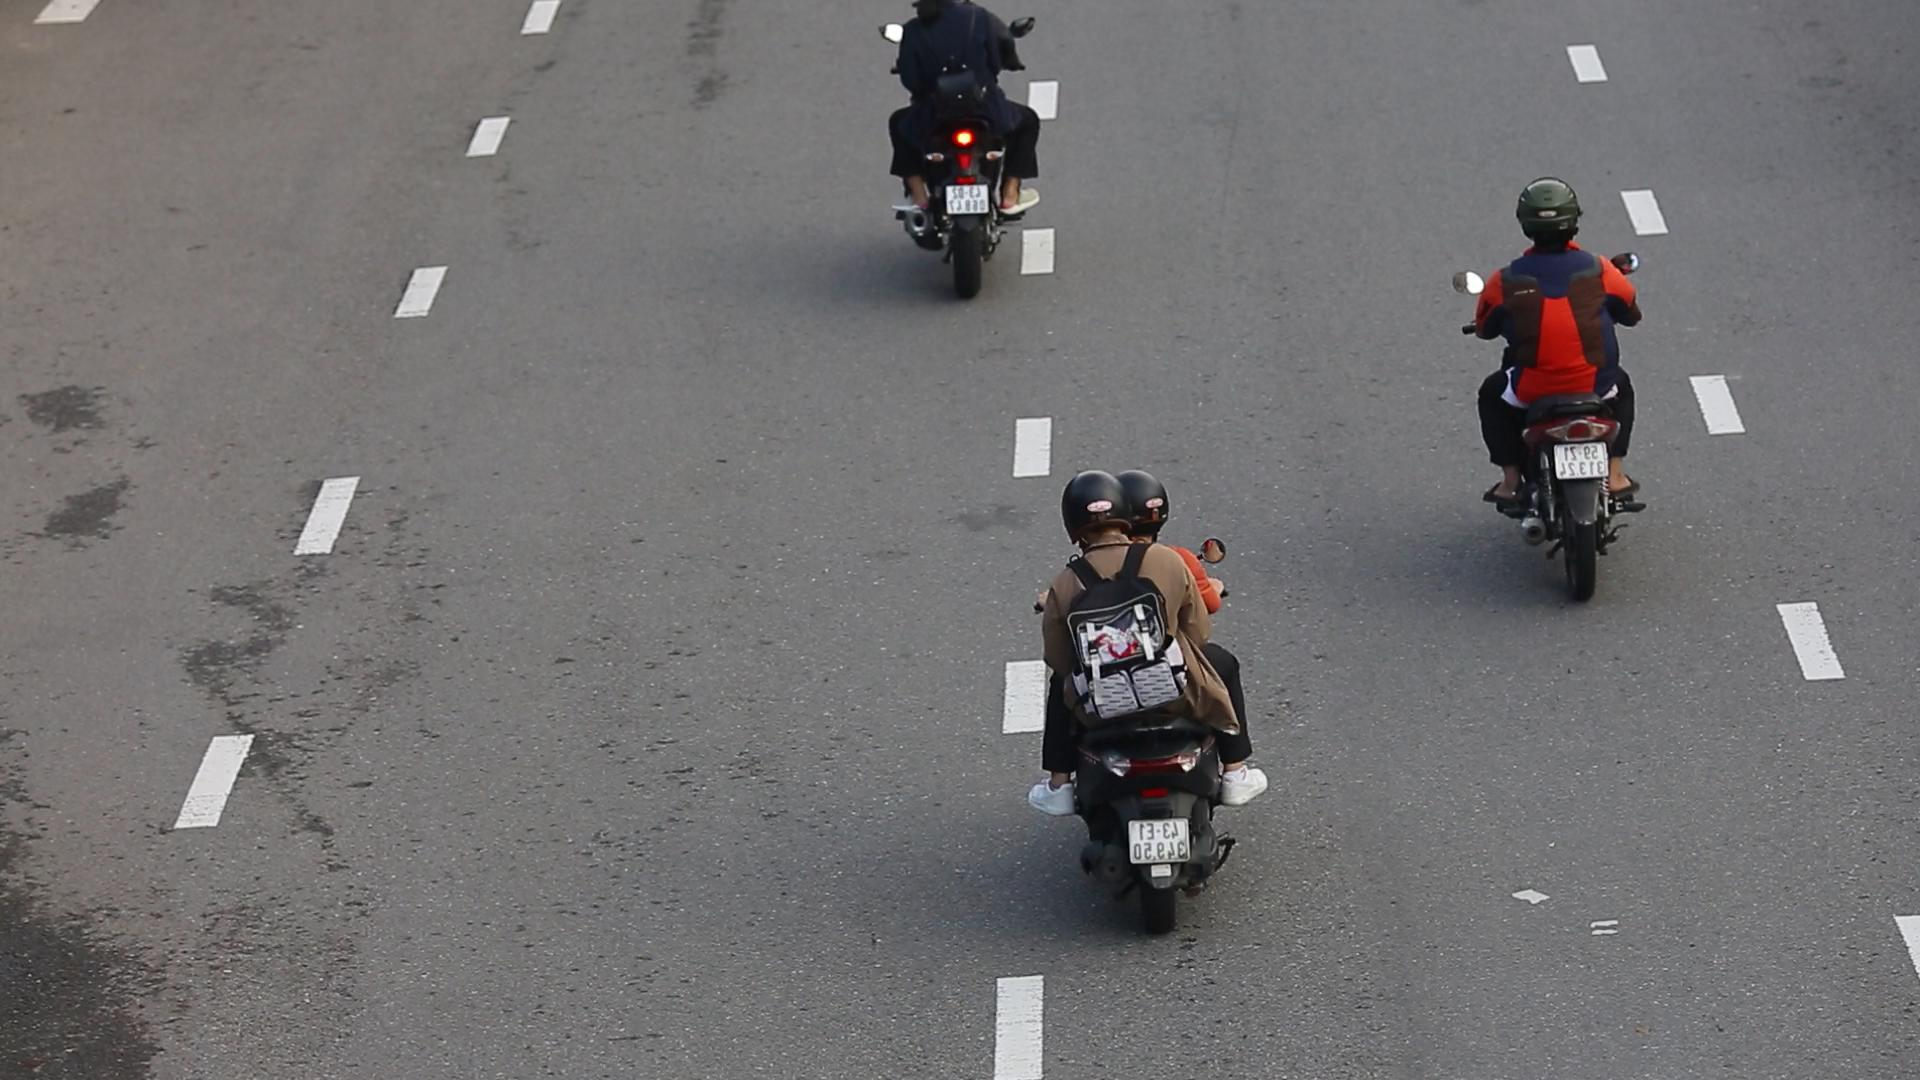motobike: (1009, 447, 1276, 948), (1461, 164, 1644, 616)
